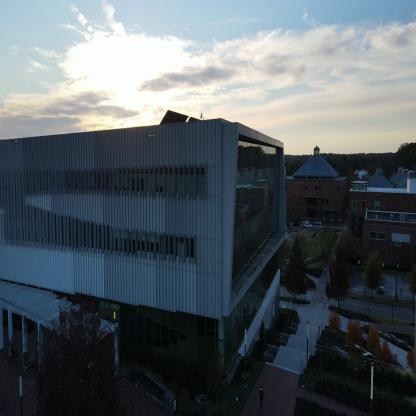Hunt Library: (0, 66, 307, 412)
